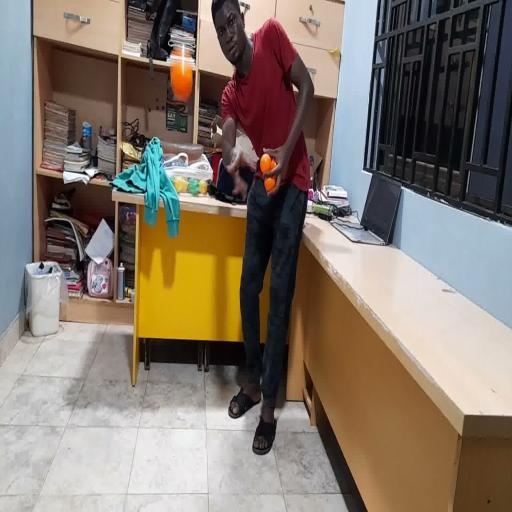plastic-ball: (167, 40, 195, 107)
